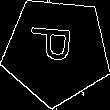P_E: (31, 30, 83, 71)
